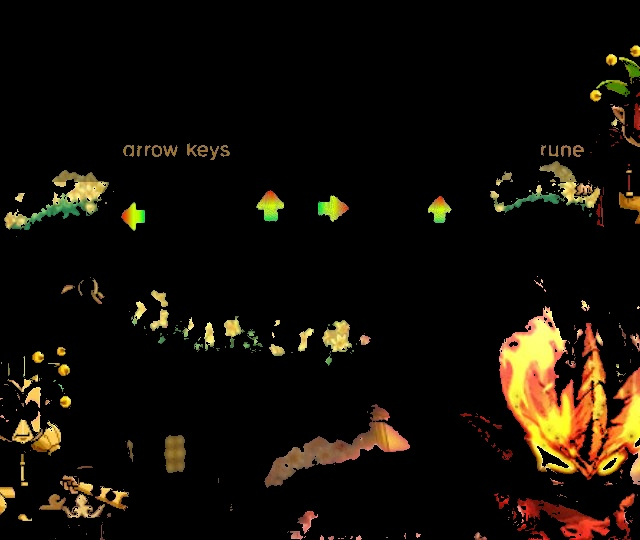left: (113, 199, 159, 238)
right: (314, 190, 353, 228)
up: (250, 184, 291, 229), (418, 189, 457, 235)
